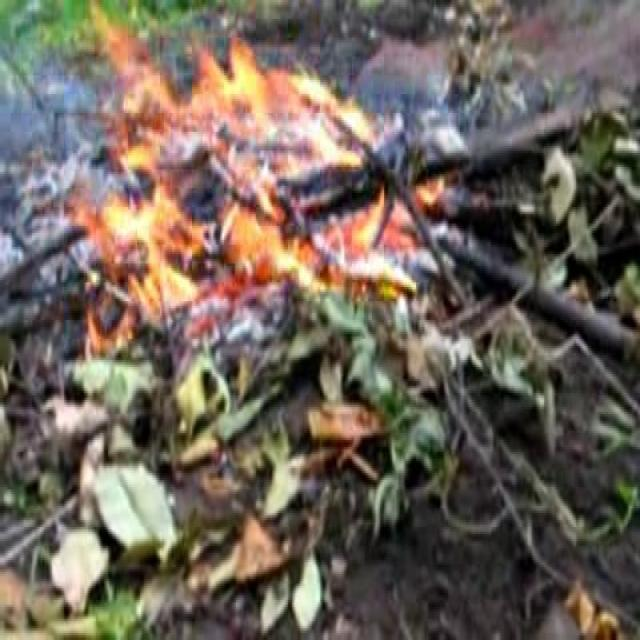Fire: (110, 84, 383, 279)
